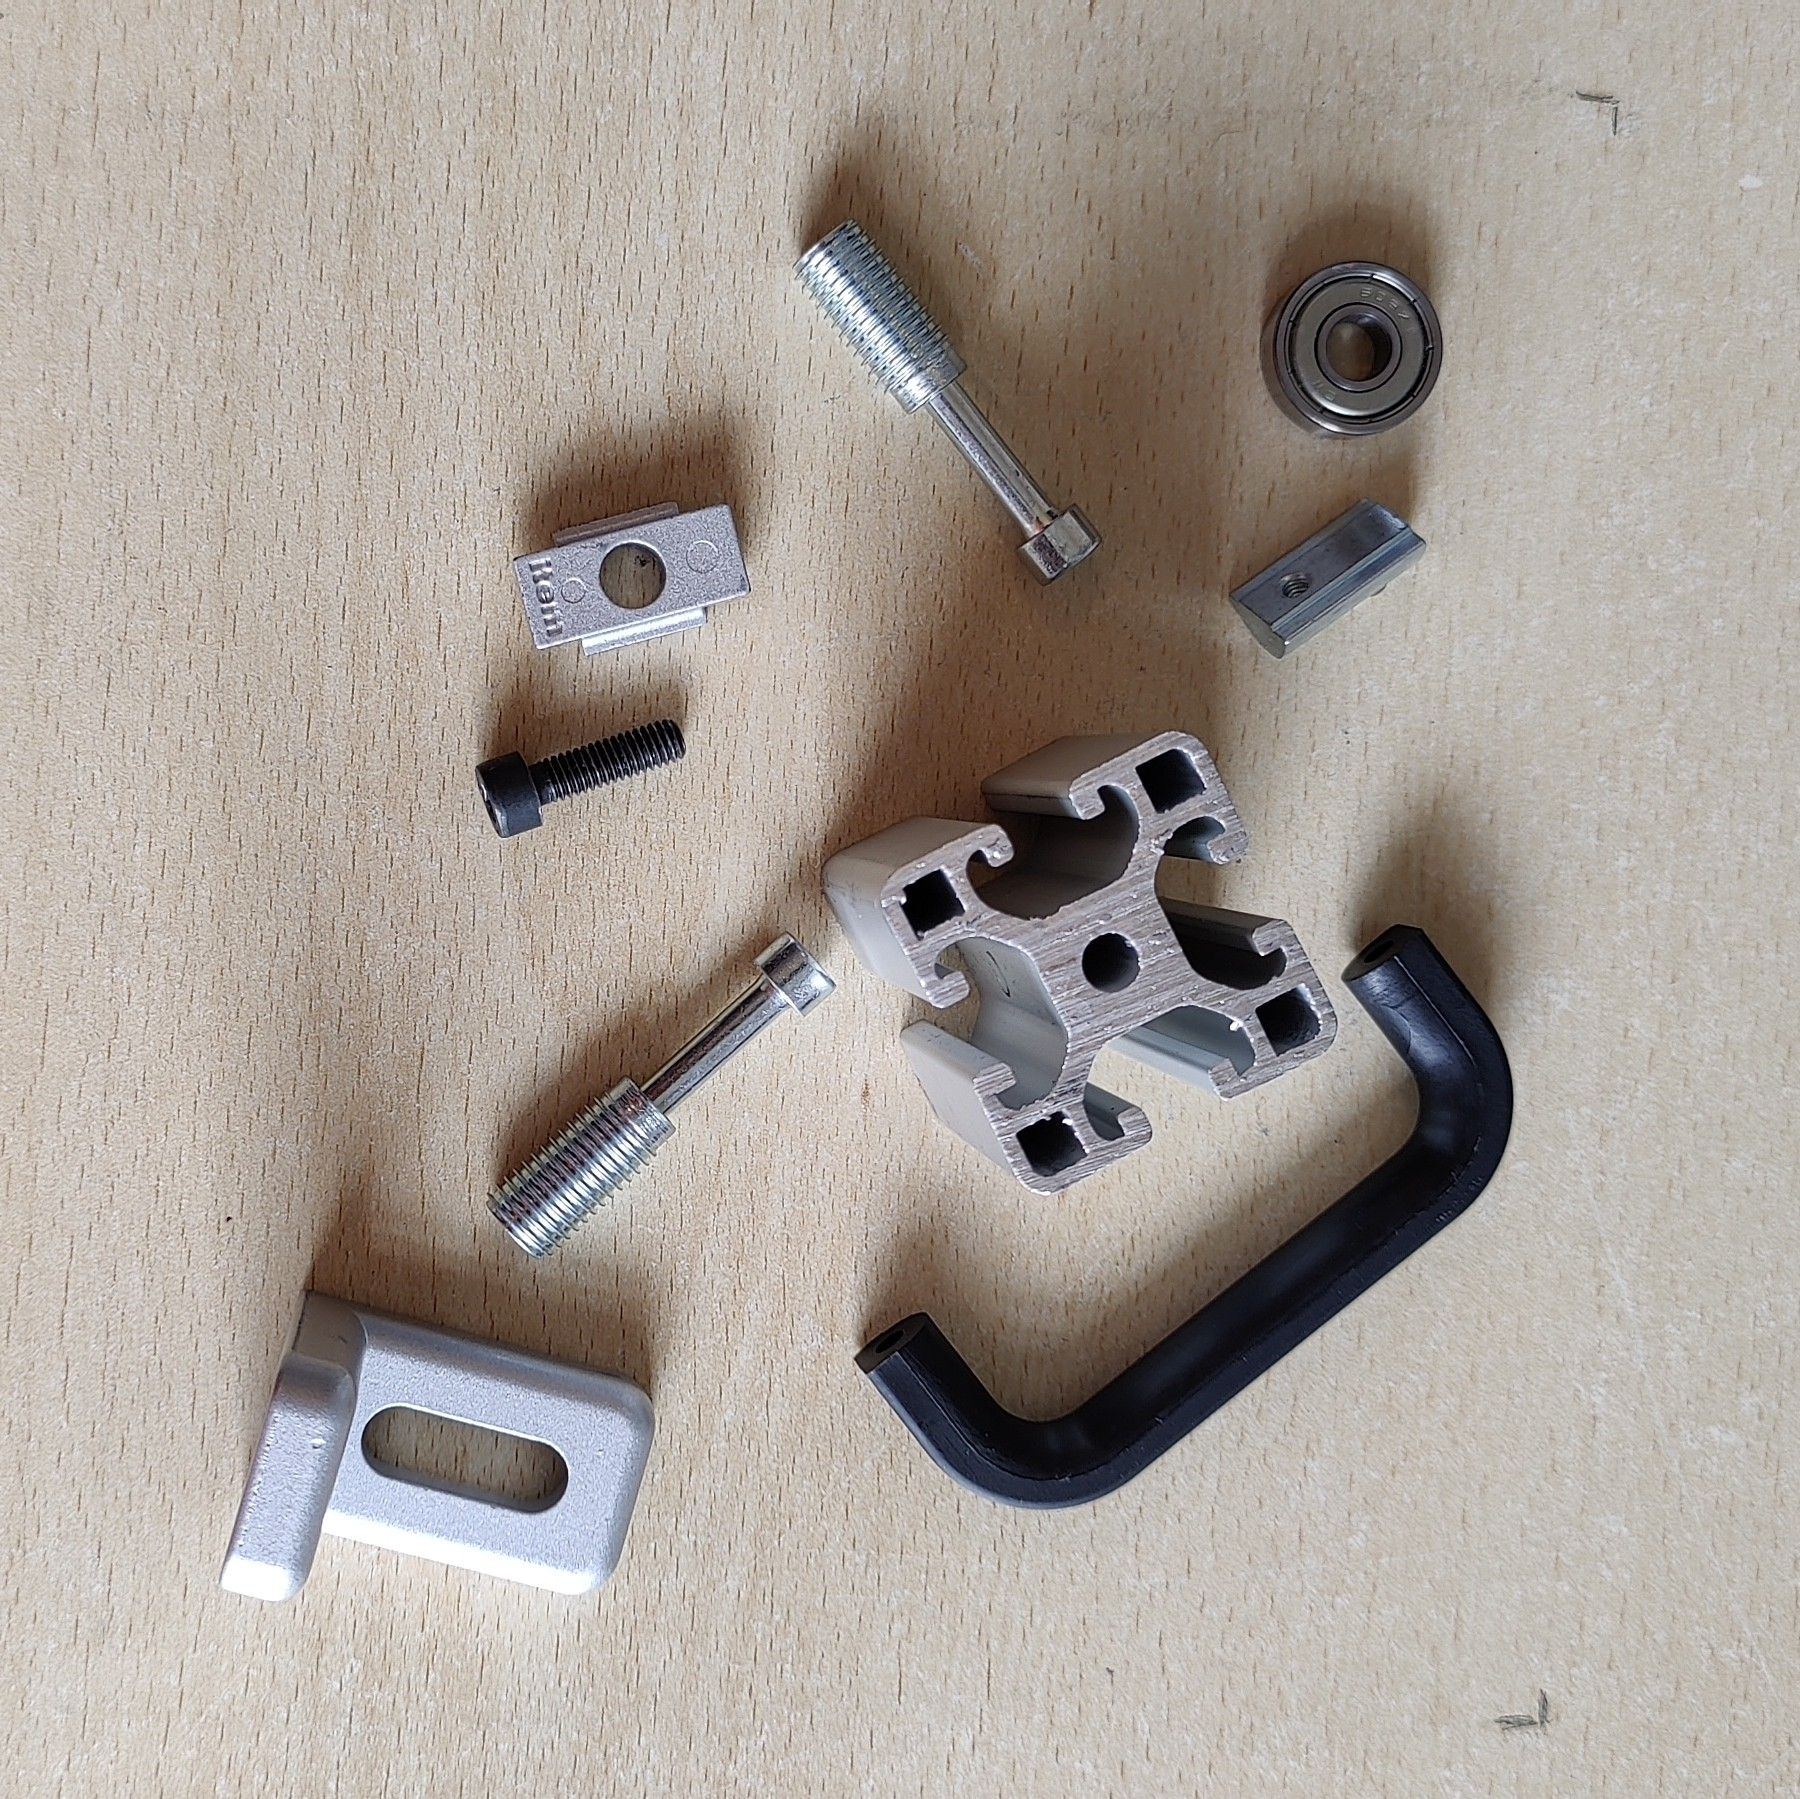Aluminium Extension: (822, 727, 1339, 1198)
Ball Bearing: (1257, 257, 1446, 442)
Multiwinkel: (216, 1283, 655, 1605)
Pull Handle: (850, 921, 1515, 1514)
Shoulder Socket Head Cap Screw: (483, 928, 838, 1264), (789, 213, 1105, 588)
Socket Head Cap Screw: (473, 713, 690, 840)
T Nut Square: (507, 496, 753, 661)
T Spring Nut: (1225, 494, 1431, 661)
